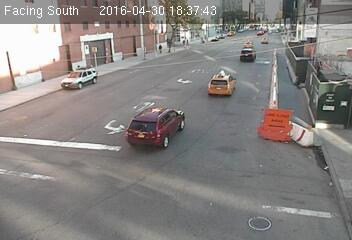neg: (313, 61, 330, 83)
pos: (155, 41, 164, 53)
